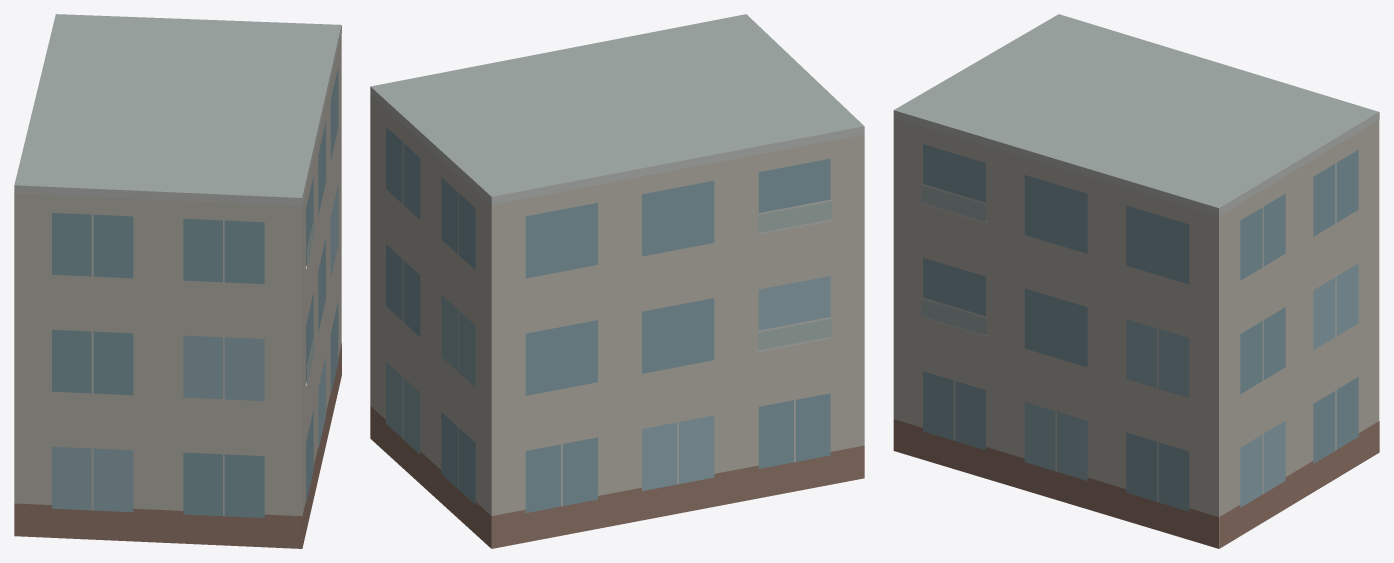
File: survey-upis-32932443.glb
3 renders of one model, left to right at view 1: azimuth 30°, elevation 25°; view 2: azimuth 150°, elevation 25°; view 3: azimuth 270°, elevation 25°, orthographic. The views are drawn at different scales.
Visible parts, largest first — view 1: survey-upis-32932443.tmp; view 2: survey-upis-32932443.tmp; view 3: survey-upis-32932443.tmp.
Part boxes in pixels (x1,y1,x2,y2): survey-upis-32932443.tmp: (14, 14, 341, 548); survey-upis-32932443.tmp: (370, 14, 864, 548); survey-upis-32932443.tmp: (893, 14, 1379, 548).
Bounding box in the file's own units: 12.93 × 10.57 × 13.67.
